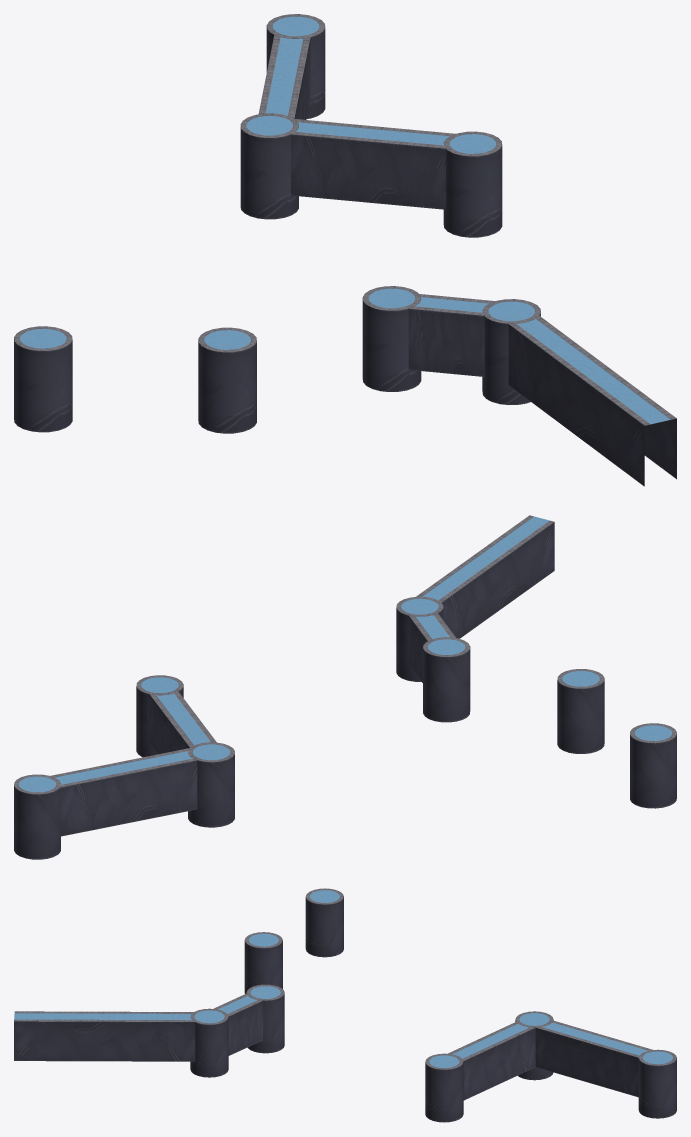
Rendered from Leo_Hero_Floor.fbx.
3 views of the same model, one above another, from view 1: azimuth 30°, elevation 25°; view 2: azimuth 150°, elevation 25°; view 3: azimuth 270°, elevation 25° (orthographic). The views are drawn at different scales.
Visible parts, largest first — view 1: pCube4, pCube2, FloorCircle_Prefab6, FloorCircle_Prefab5, FloorCircle_Prefab2, pCube3, FloorCircle_Prefab, FloorCircle_Prefab3, pCube1, FloorCircle_Prefab4, FloorCircle_Prefab1; view 2: pCube1, pCube4, FloorCircle_Prefab3, FloorCircle_Prefab5, FloorCircle_Prefab6, FloorCircle_Prefab1, FloorCircle_Prefab, pCube2, FloorCircle_Prefab4, FloorCircle_Prefab2, pCube3; view 3: pCube4, pCube1, pCube2, FloorCircle_Prefab6, FloorCircle_Prefab2, FloorCircle_Prefab1, FloorCircle_Prefab4, FloorCircle_Prefab5, pCube3, FloorCircle_Prefab3, FloorCircle_Prefab.
Boxes of the visible parts, left/top/right/bottom form: pCube4: left=508, top=316, right=676, bottom=486; pCube2: left=291, top=119, right=455, bottom=209; FloorCircle_Prefab6: left=14, top=326, right=72, bottom=432; FloorCircle_Prefab5: left=198, top=327, right=256, bottom=433; FloorCircle_Prefab2: left=443, top=131, right=502, bottom=237; pCube3: left=408, top=294, right=495, bottom=376; FloorCircle_Prefab: left=240, top=113, right=298, bottom=219; FloorCircle_Prefab3: left=362, top=286, right=421, bottom=391; pCube1: left=258, top=35, right=310, bottom=119; FloorCircle_Prefab4: left=482, top=299, right=540, bottom=404; FloorCircle_Prefab1: left=266, top=14, right=325, bottom=119; pCube1: left=50, top=748, right=197, bottom=836; pCube4: left=416, top=515, right=554, bottom=638; FloorCircle_Prefab3: left=423, top=637, right=470, bottom=722; FloorCircle_Prefab5: left=557, top=669, right=604, bottom=753; FloorCircle_Prefab6: left=630, top=723, right=676, bottom=808; FloorCircle_Prefab1: left=14, top=774, right=60, bottom=859; FloorCircle_Prefab: left=188, top=742, right=234, bottom=827; pCube2: left=149, top=691, right=216, bottom=754; FloorCircle_Prefab4: left=396, top=596, right=443, bottom=681; FloorCircle_Prefab2: left=136, top=675, right=183, bottom=757; pCube3: left=409, top=613, right=455, bottom=682; pCube4: left=14, top=1011, right=195, bottom=1061; pCube1: left=535, top=1020, right=652, bottom=1097; pCube2: left=447, top=1022, right=535, bottom=1100; FloorCircle_Prefab6: left=305, top=888, right=343, bottom=957; FloorCircle_Prefab2: left=425, top=1053, right=463, bottom=1122; FloorCircle_Prefab1: left=638, top=1049, right=676, bottom=1118; FloorCircle_Prefab4: left=190, top=1008, right=228, bottom=1077; FloorCircle_Prefab5: left=244, top=932, right=282, bottom=993; pCube3: left=213, top=993, right=263, bottom=1055; FloorCircle_Prefab3: left=246, top=984, right=284, bottom=1053; FloorCircle_Prefab: left=515, top=1011, right=553, bottom=1080.
Size of the model in its own units: 11231 by 1529 by 17361.
